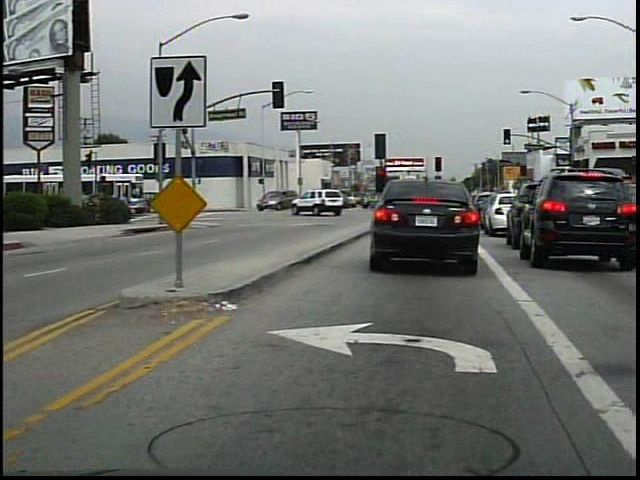person: (115, 188, 136, 224)
